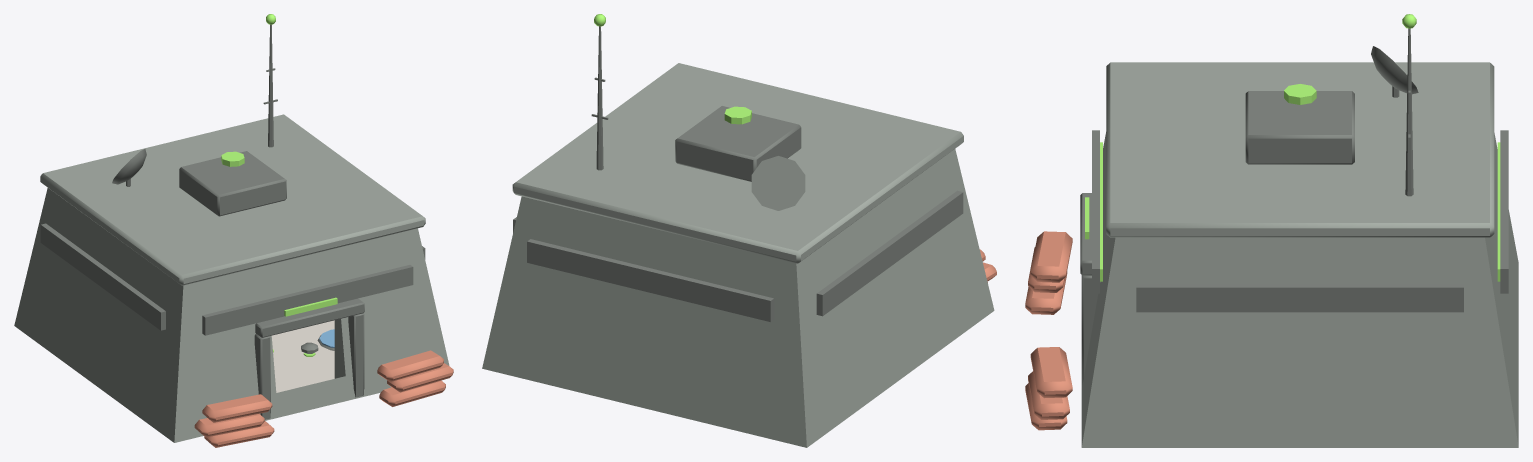
Rendered from CiudadBunker.fbx.
3 renders of one model, left to right at view 1: azimuth 30°, elevation 25°; view 2: azimuth 150°, elevation 25°; view 3: azimuth 270°, elevation 25°, orthographic. The views are drawn at different scales.
Parts seen in each view (by area): view 1: CiudadBunker_Base_Cuerpo, CiudadBunker_Base_Metal, CiudadBunker_Base_Toldo, CiudadBunker_Base_Forro, CiudadBunker_Base_Luz; view 2: CiudadBunker_Base_Cuerpo, CiudadBunker_Base_Metal, CiudadBunker_Base_Luz; view 3: CiudadBunker_Base_Cuerpo, CiudadBunker_Base_Metal, CiudadBunker_Base_Toldo, CiudadBunker_Base_Luz.
Part boxes in pixels (x1,y1,x2,y2): CiudadBunker_Base_Cuerpo: (14, 114, 449, 442); CiudadBunker_Base_Metal: (40, 24, 425, 419); CiudadBunker_Base_Toldo: (194, 350, 453, 447); CiudadBunker_Base_Forro: (271, 320, 334, 392); CiudadBunker_Base_Luz: (221, 14, 337, 356); CiudadBunker_Base_Cuerpo: (482, 63, 994, 447); CiudadBunker_Base_Metal: (513, 26, 963, 322); CiudadBunker_Base_Luz: (594, 14, 751, 124); CiudadBunker_Base_Cuerpo: (1081, 62, 1518, 447); CiudadBunker_Base_Metal: (1080, 28, 1508, 387); CiudadBunker_Base_Toldo: (1025, 231, 1072, 430); CiudadBunker_Base_Luz: (1085, 14, 1500, 281).
Size of the model in its own units: 3200 by 3175 by 3614.
